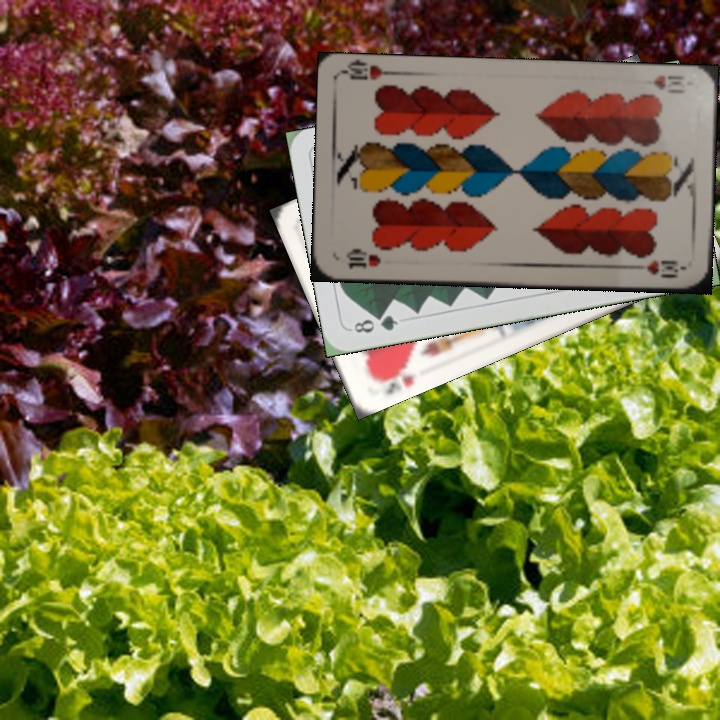G8: (346, 310, 401, 336)
H10: (342, 246, 383, 271), (649, 71, 688, 96)
HK: (382, 361, 419, 397)
